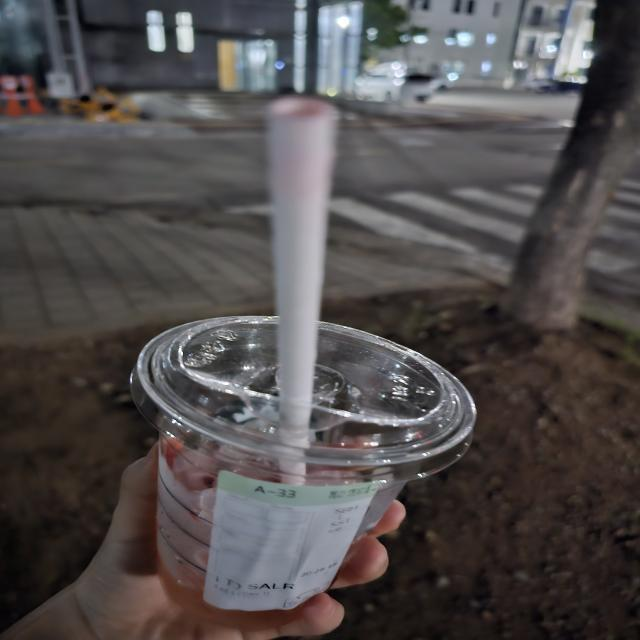cup: (118, 300, 478, 630)
